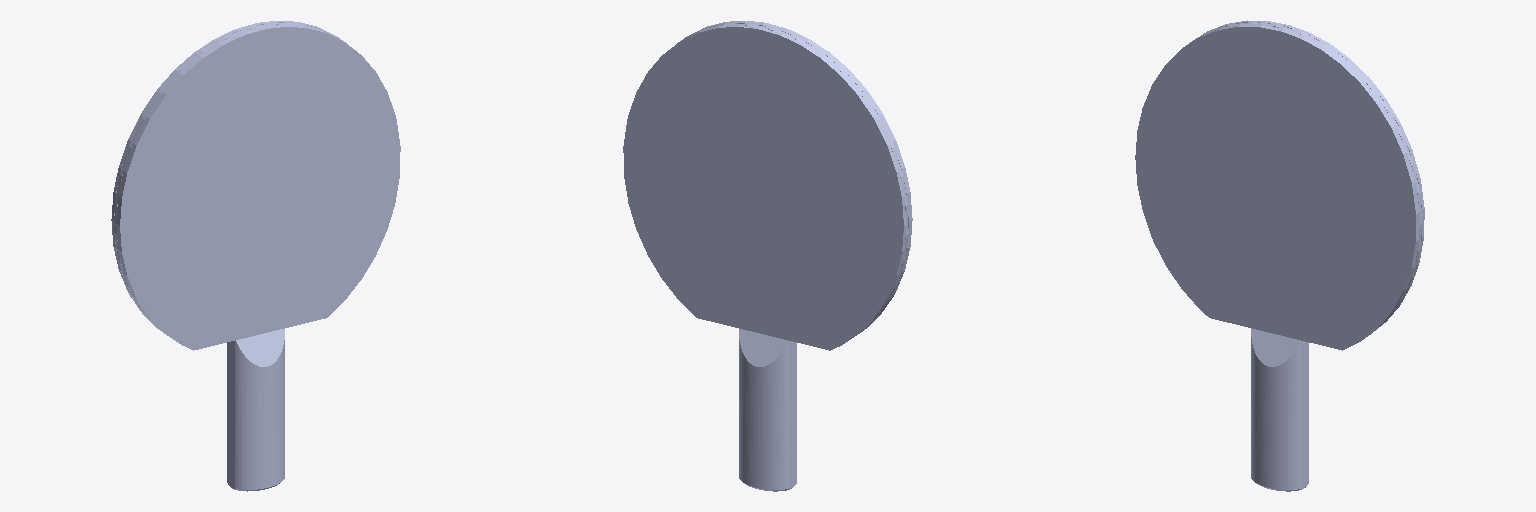
The robot description file, URDF, robot "tennis_bat4":
<?xml version="1.0" encoding="utf-8"?>
<!-- This URDF was automatically created by SolidWorks to URDF Exporter! Originally created by [author] ([email redacted]) 
     Commit Version: 1.6.0-4-g7f85cfe  Build Version: 1.6.7995.38578
     For more information, please see http://wiki.ros.org/sw_urdf_exporter -->
<robot
  name="tennis_bat4">
  <link
    name="base_link">
    <inertial>
      <origin
        xyz="0.00064094 -0.0095677 0.0039379"
        rpy="0 0 0" />
      <mass
        value="0.25973" />
      <inertia
        ixx="0.00078665"
        ixy="-6.4222E-11"
        ixz="-1.6983E-12"
        iyy="0.00038569"
        iyz="8.9552E-11"
        izz="0.0011723" />
    </inertial>
    <visual>
      <origin
        xyz="0 0 0"
        rpy="0 0 0" />
      <geometry>
        <mesh
          filename="package://tennis_bat4/meshes/base_link.STL" />
      </geometry>
      <material
        name="">
        <color
          rgba="0.79216 0.81961 0.93333 1" />
      </material>
    </visual>
    <collision>
      <origin
        xyz="0 0 0"
        rpy="0 0 0" />
      <geometry>
        <mesh
          filename="package://tennis_bat4/meshes/base_link.STL" />
      </geometry>
    </collision>
  </link>
</robot>

--- What the picture shows (computed from the rendered views, not written in the file) ---
3 views of the same robot in one strip: view 1: azimuth 30°, elevation 25°; view 2: azimuth 150°, elevation 25°; view 3: azimuth 330°, elevation 25° (orthographic).
Model tennis_bat4 with 1 links and 0 joints (none), rooted at base_link, posed all joints at 0.
Links seen in each view (by area): view 1: base_link; view 2: base_link; view 3: base_link.
Link boxes in pixels (x1,y1,x2,y2): base_link: (111, 21, 400, 491); base_link: (623, 21, 912, 491); base_link: (1135, 20, 1424, 491).
Size in the robot's own frame: 0.1682 by 0.0232 by 0.2603 metres.
Meshes: 1 distinct files referenced, 1 mesh visuals loaded (1 binary STL).